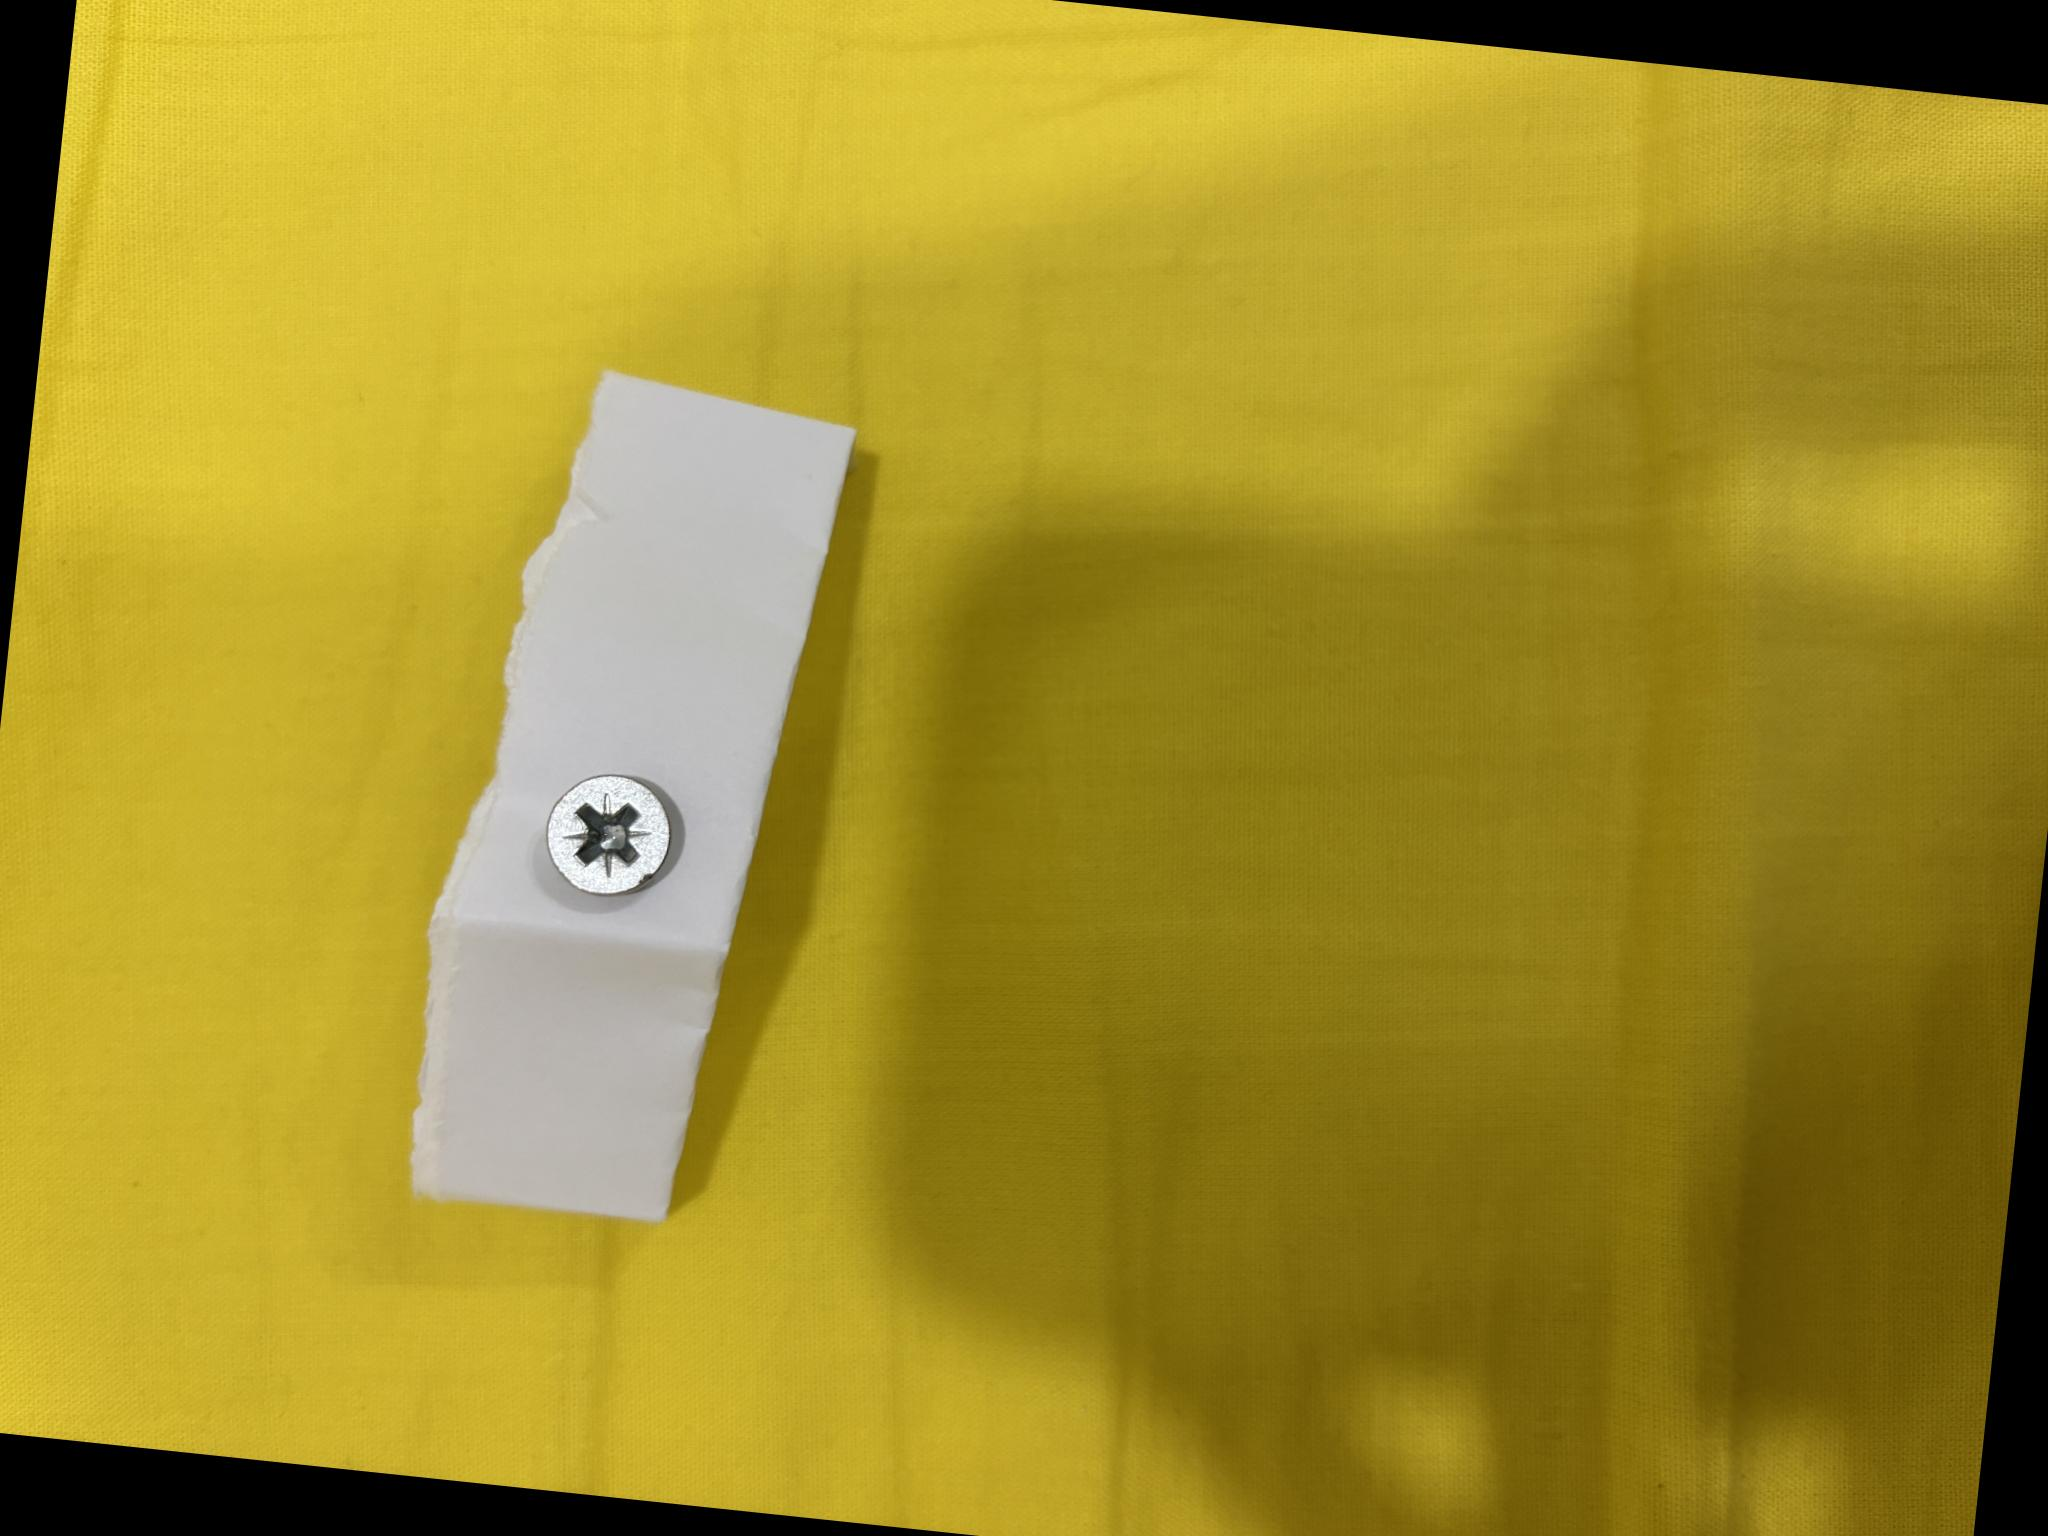PZ: (614, 518, 739, 647)
